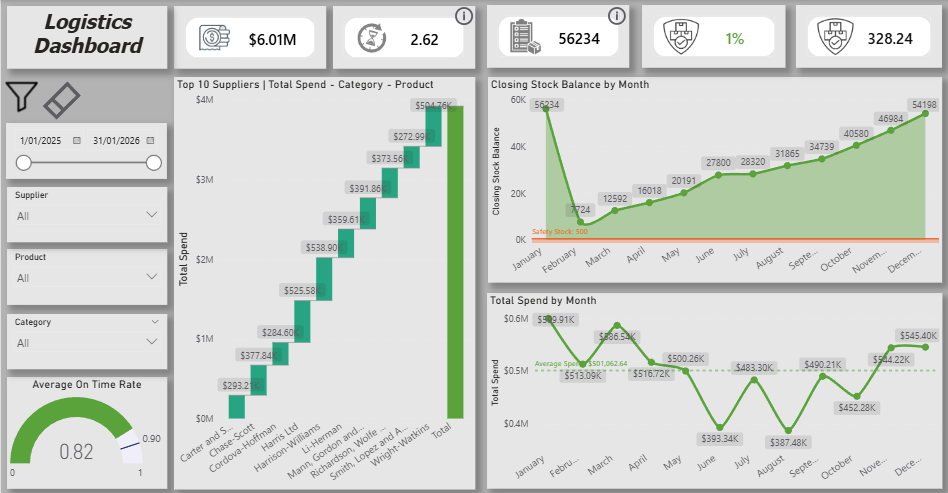

Layout of this report page (visuals, bound fields, positions):
{"tool":"powerbi","page":{"name":"Logistics Dashboard","canvas":[1550,800],"ordinal":0},"visuals":[{"type":"lineChart","fields":{"Category":["Dim_Date.Date.Variation.Date Hierarchy.Year","Dim_Date.Date.Variation.Date Hierarchy.Quarter","Dim_Date.Date.Variation.Date Hierarchy.Month","Dim_Date.Date.Variation.Date Hierarchy.Day"],"Y":["Fact_Purchase_Order.Total Spend"]},"box":[782.4,472,732.8,315.2],"z":1000},{"type":"areaChart","fields":{"Y":["Fact_Inventory.Closing Stock Balance"],"Category":["Dim_Date.Date.Variation.Date Hierarchy.Year","Dim_Date.Date.Variation.Date Hierarchy.Quarter","Dim_Date.Date.Variation.Date Hierarchy.Month","Dim_Date.Date.Variation.Date Hierarchy.Day"]},"box":[784,123.2,731.2,331.2],"z":2000},{"type":"gauge","fields":{"Y":["Dim_Supplier.Average On Time Rate"]},"box":[9.7,606.8,257.5,180.3],"z":3000},{"type":"actionButton","box":[51.8,116.6,63.4,80.6],"z":4000},{"type":"cardVisual","fields":{"Data":["Fact_Purchase_Order.Total Spend"]},"box":[278.4,9.6,244.8,100.8],"z":10000},{"type":"cardVisual","fields":{"Data":["Fact_Purchase_Order.Average Delay"]},"box":[534.4,9.6,228.8,100.8],"z":11000},{"type":"cardVisual","fields":{"Data":["Fact_Inventory.Closing Stock Balance"]},"box":[782,8.8,229.5,100.6],"z":12000},{"type":"waterfallChart","title":"Top 10 Suppliers | Total Spend - Category - Product","fields":{"Category":["suppliers.supplier_name","Dim_Product_Category.category","Dim_Product.product_name"],"Y":["Fact_Purchase_Order.Total Spend"]},"box":[278.9,123.6,485.5,663.8],"z":14000},{"type":"textbox","box":[9.6,9.6,257.6,100.8],"z":15000},{"type":"cardVisual","fields":{"Data":["Fact_Inventory.% Days below Safety Stock"]},"box":[1030.9,8.8,231.3,100.6],"z":16000},{"type":"cardVisual","fields":{"Data":["Fact_Inventory.Average Daily OUT Movements"]},"box":[1279.9,8.8,234.8,100.6],"z":17000},{"type":"actionButton","box":[972.8,6.4,38.4,38.4],"z":17500},{"type":"actionButton","box":[725.5,7.1,38.8,38.8],"z":18000}]}

Visuals, with their boxes in screenshot pixels (x1, y1, x2, y2), scaled from the page's 1550x800 canvas onto the 948x493 screenshot:
lineChart - Dim_Date.Date.Variation.Date Hierarchy.Year x Dim_Date.Date.Variation.Date Hierarchy.Quarter: (479, 291, 927, 485)
areaChart - Fact_Inventory.Closing Stock Balance x Dim_Date.Date.Variation.Date Hierarchy.Year: (480, 76, 927, 280)
gauge - Dim_Supplier.Average On Time Rate: (6, 374, 163, 485)
actionButton: (32, 72, 70, 122)
cardVisual - Fact_Purchase_Order.Total Spend: (170, 6, 320, 68)
cardVisual - Fact_Purchase_Order.Average Delay: (327, 6, 467, 68)
cardVisual - Fact_Inventory.Closing Stock Balance: (478, 5, 619, 67)
"Top 10 Suppliers | Total Spend - Category - Product" waterfallChart: (171, 76, 468, 485)
textbox: (6, 6, 163, 68)
cardVisual - Fact_Inventory.% Days below Safety Stock: (631, 5, 772, 67)
cardVisual - Fact_Inventory.Average Daily OUT Movements: (783, 5, 926, 67)
actionButton: (595, 4, 618, 28)
actionButton: (444, 4, 467, 28)
